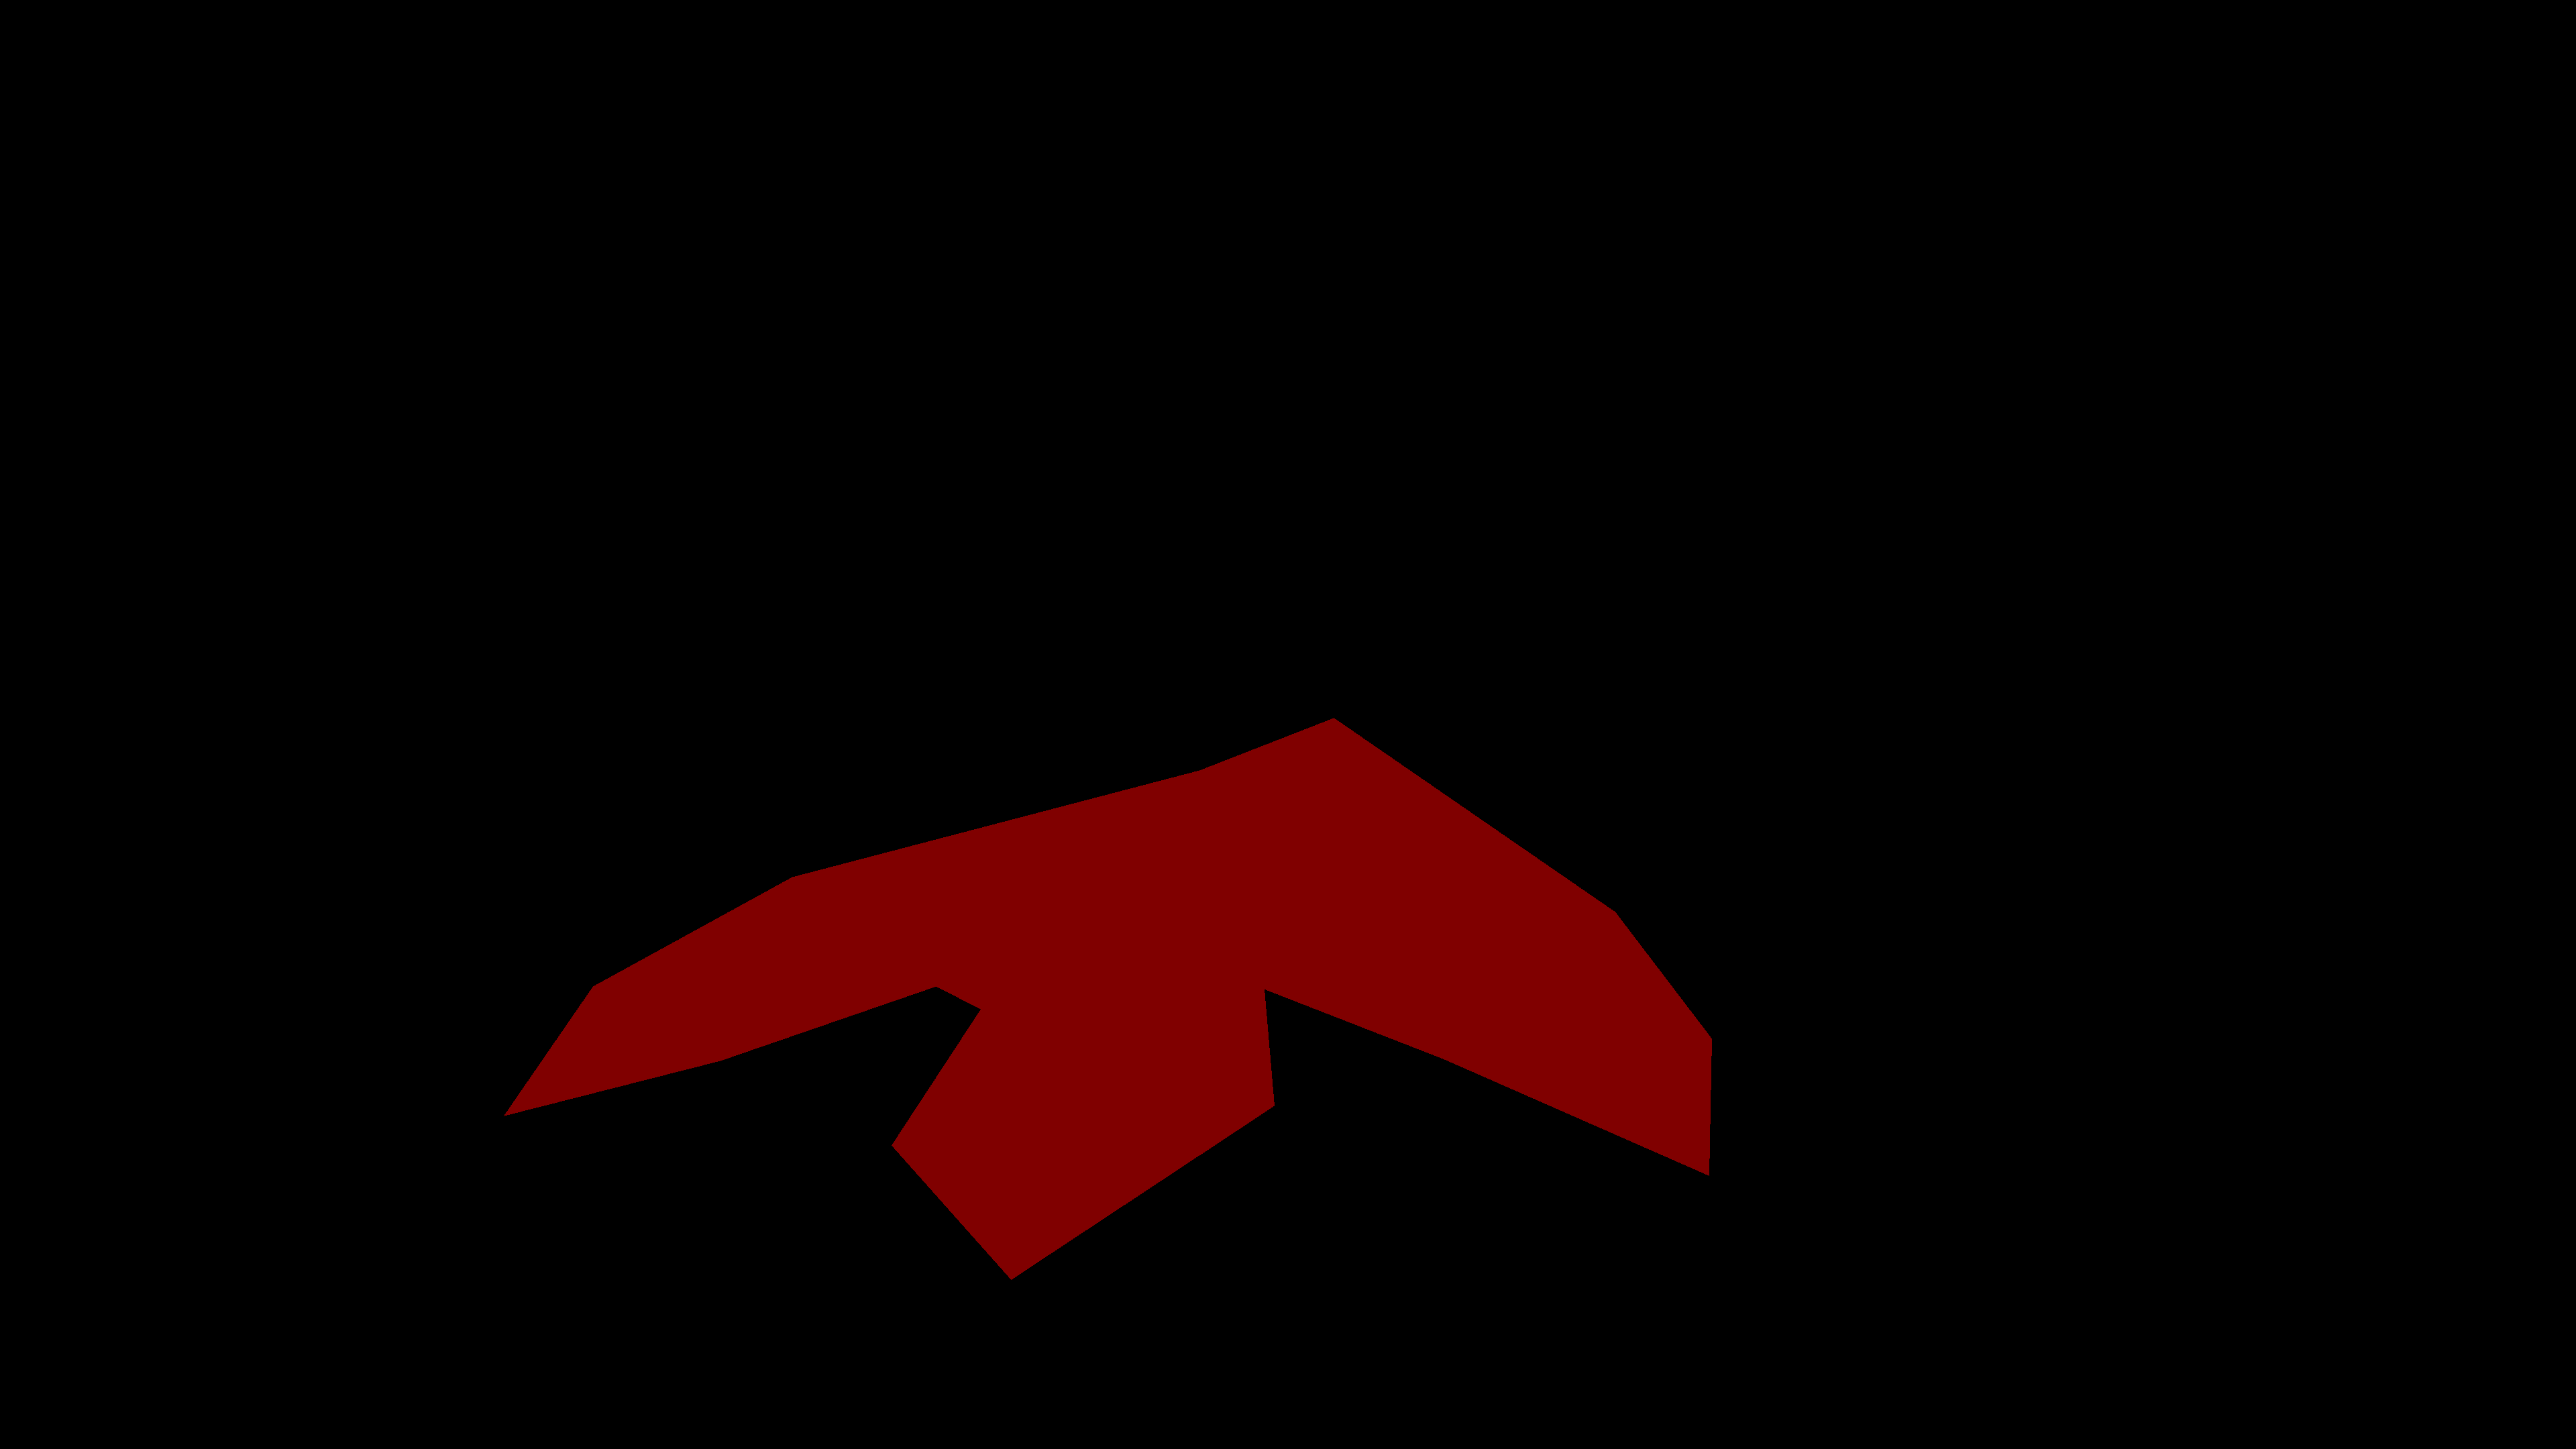fire: (504, 718, 1711, 1279)
